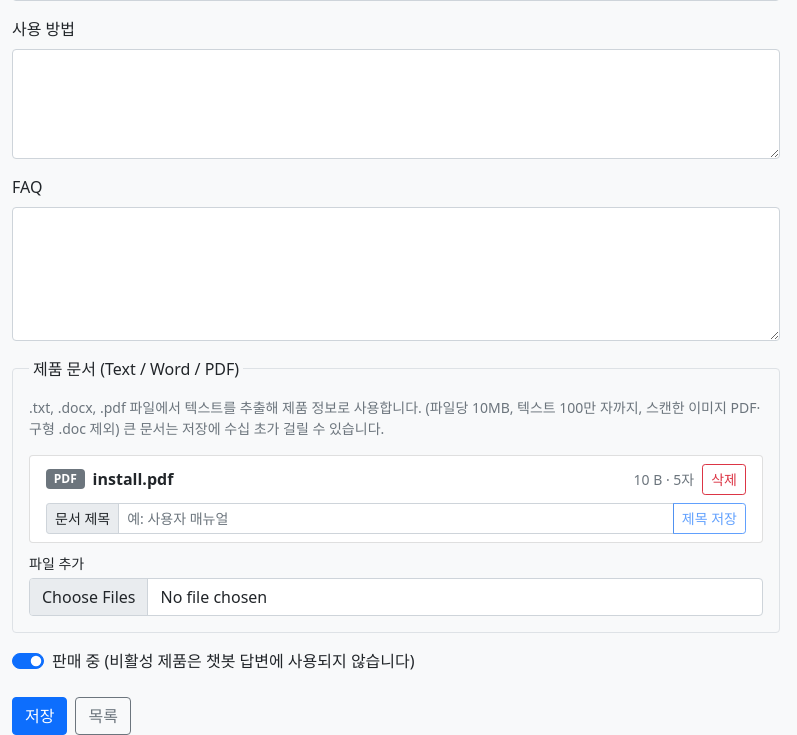
Test: ProductFormView document titles › shows the title with the file name and renames a document
(page scrolled)
Expected: the button with test id "save-document-title" is disabled, x1=673 y1=503 x2=746 y2=534
Type "빠른 설치 가이드" into the field with test id "document-title" at x=396, y=518, box x1=118 y1=503 x2=674 y2=534
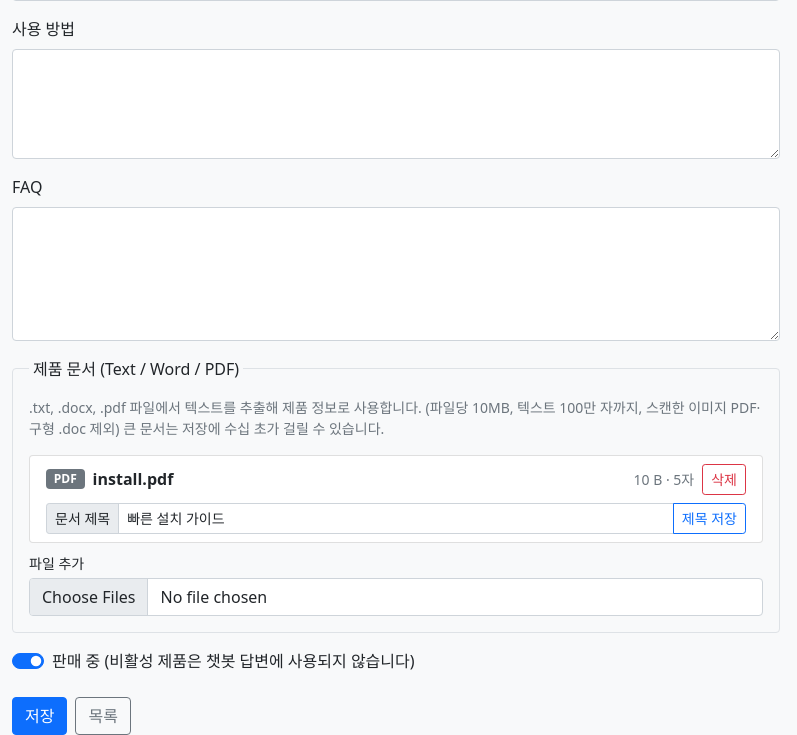
Expected: the button with test id "save-document-title" is enabled
Click the button with test id "save-document-title" at x=709, y=518, box x1=673 y1=503 x2=746 y2=534
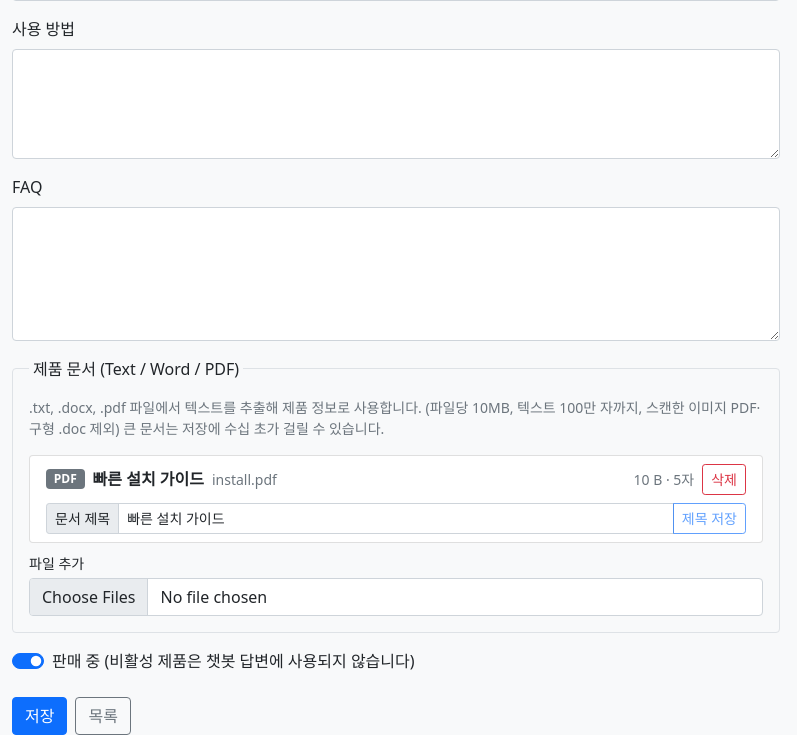
Expected: the list with test id "document-list" shows "install.pdf", x1=212 y1=470 x2=277 y2=489
Expected: the list with test id "document-list" shows "빠른 설치 가이드", x1=93 y1=468 x2=204 y2=490
Expected: the button with test id "save-document-title" is disabled, x1=673 y1=503 x2=746 y2=534
